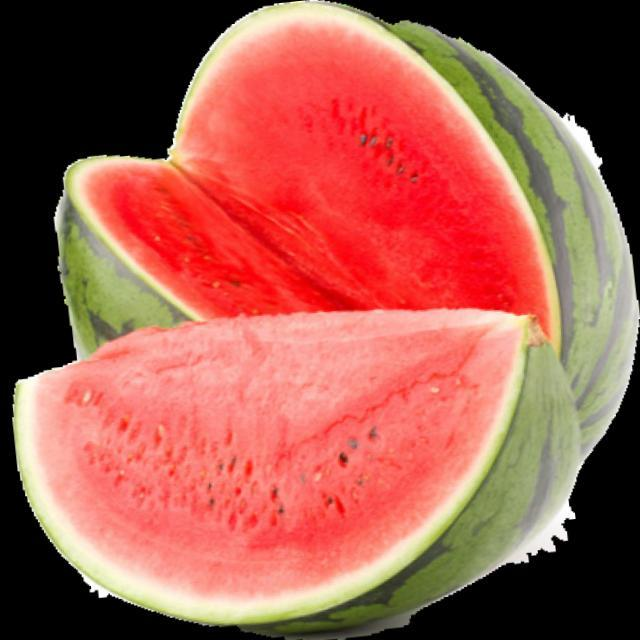WATERMELON: (31, 0, 639, 478), (6, 286, 591, 640)
